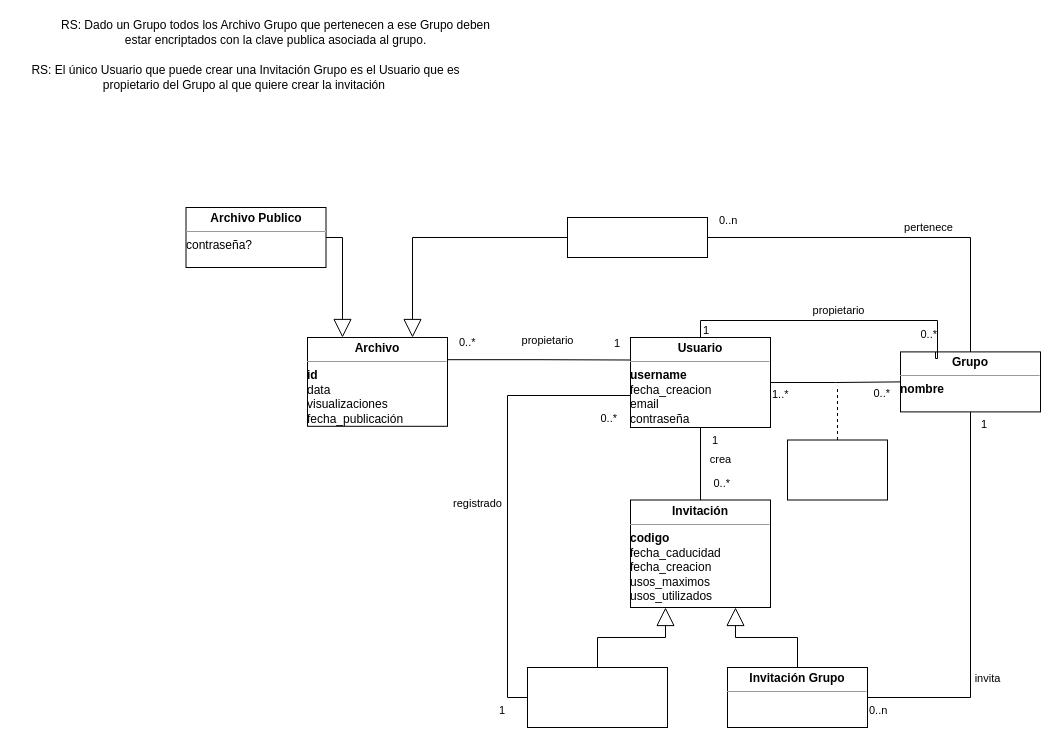
This 1058x745 diagram has some shape labels left out. Each missing label, with the centre of its shape:
"Archivo Grupo" belongs at point (637, 237).
"Invitación Registro" belongs at point (597, 697).
"Registro fecha" belongs at point (837, 469).
